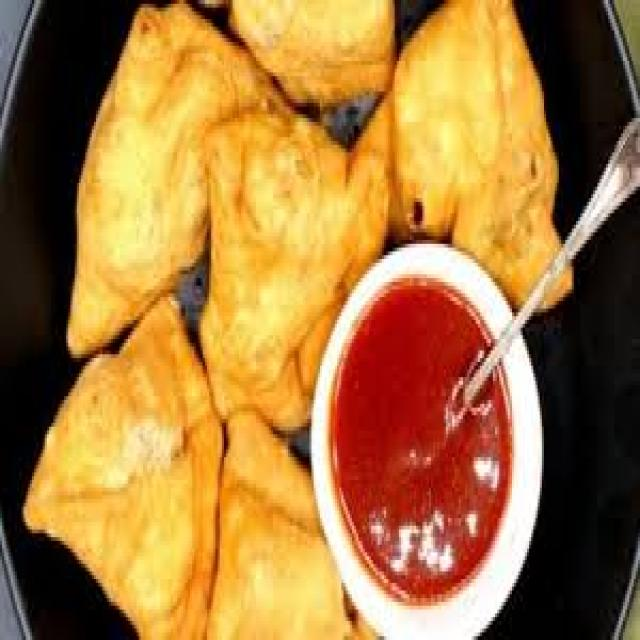SAMOSA: (68, 4, 281, 365), (24, 300, 225, 634), (202, 94, 390, 418), (388, 0, 573, 320), (200, 414, 393, 636), (230, 0, 394, 107)
